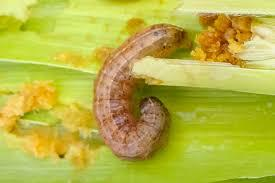fallarmy_worm: (80, 21, 192, 165)
